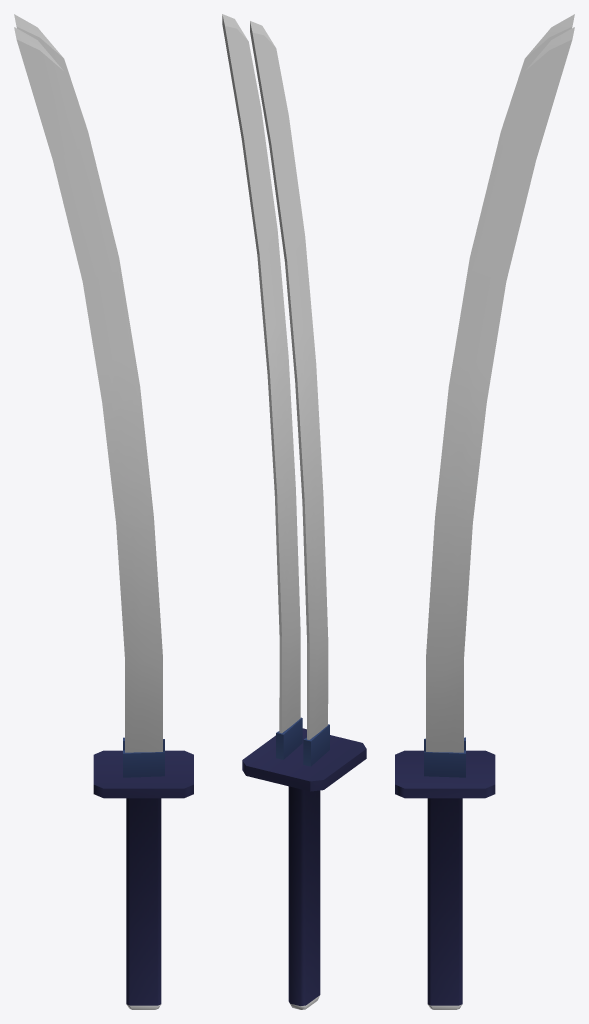
File: Weapon_katana.fbx
3 renders of one model, left to right at view 1: azimuth 90°, elevation 25°; view 2: azimuth 150°, elevation 25°; view 3: azimuth 270°, elevation 25°, orthographic. The views are drawn at different scales.
Parts seen in each view (by area): view 1: W_DK_1; view 2: W_DK_1; view 3: W_DK_1.
Boxes of the visible parts, left/top/right/bottom form: W_DK_1: left=14, top=14, right=193, bottom=1009; W_DK_1: left=222, top=14, right=366, bottom=1009; W_DK_1: left=395, top=14, right=574, bottom=1009.
Bounding box in the file's own units: 9.68 × 117 × 19.41.
